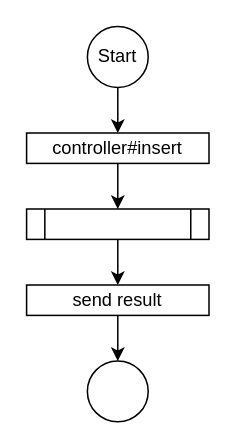
Image size: 236x448. Some labels were removed from this diagram. The box of each missing label's shape, as (x1, y1, x2, y2) in pixels:
End: (86, 359, 148, 422)
facade#insert: (25, 207, 209, 239)
